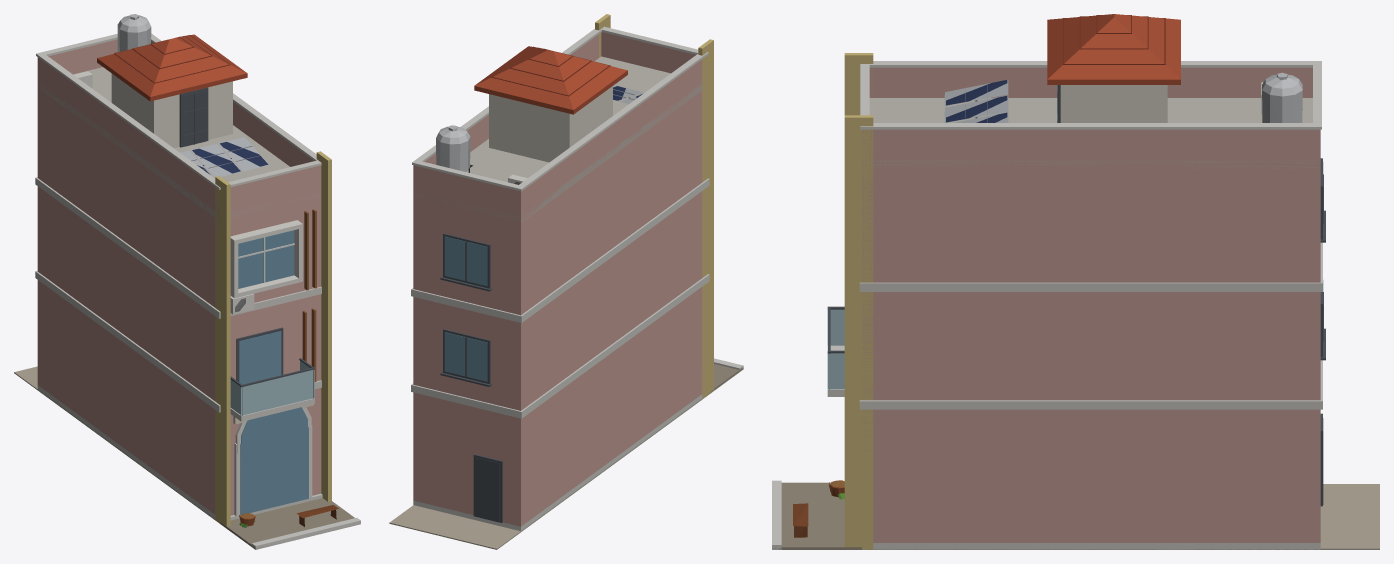
Rendered from bay1_mid2.glb.
3 views of the same model, side by side, from view 1: azimuth 30°, elevation 25°; view 2: azimuth 150°, elevation 25°; view 3: azimuth 270°, elevation 25° (orthographic). The views are drawn at different scales.
Parts seen in each view (by area): view 1: body; view 2: body; view 3: body.
Part boxes in pixels (bbox=[...]): body: bbox=[14, 14, 360, 549]; body: bbox=[389, 14, 743, 549]; body: bbox=[772, 14, 1379, 549].
Bounding box in the file's own units: 4.12 × 14.84 × 15.9.
